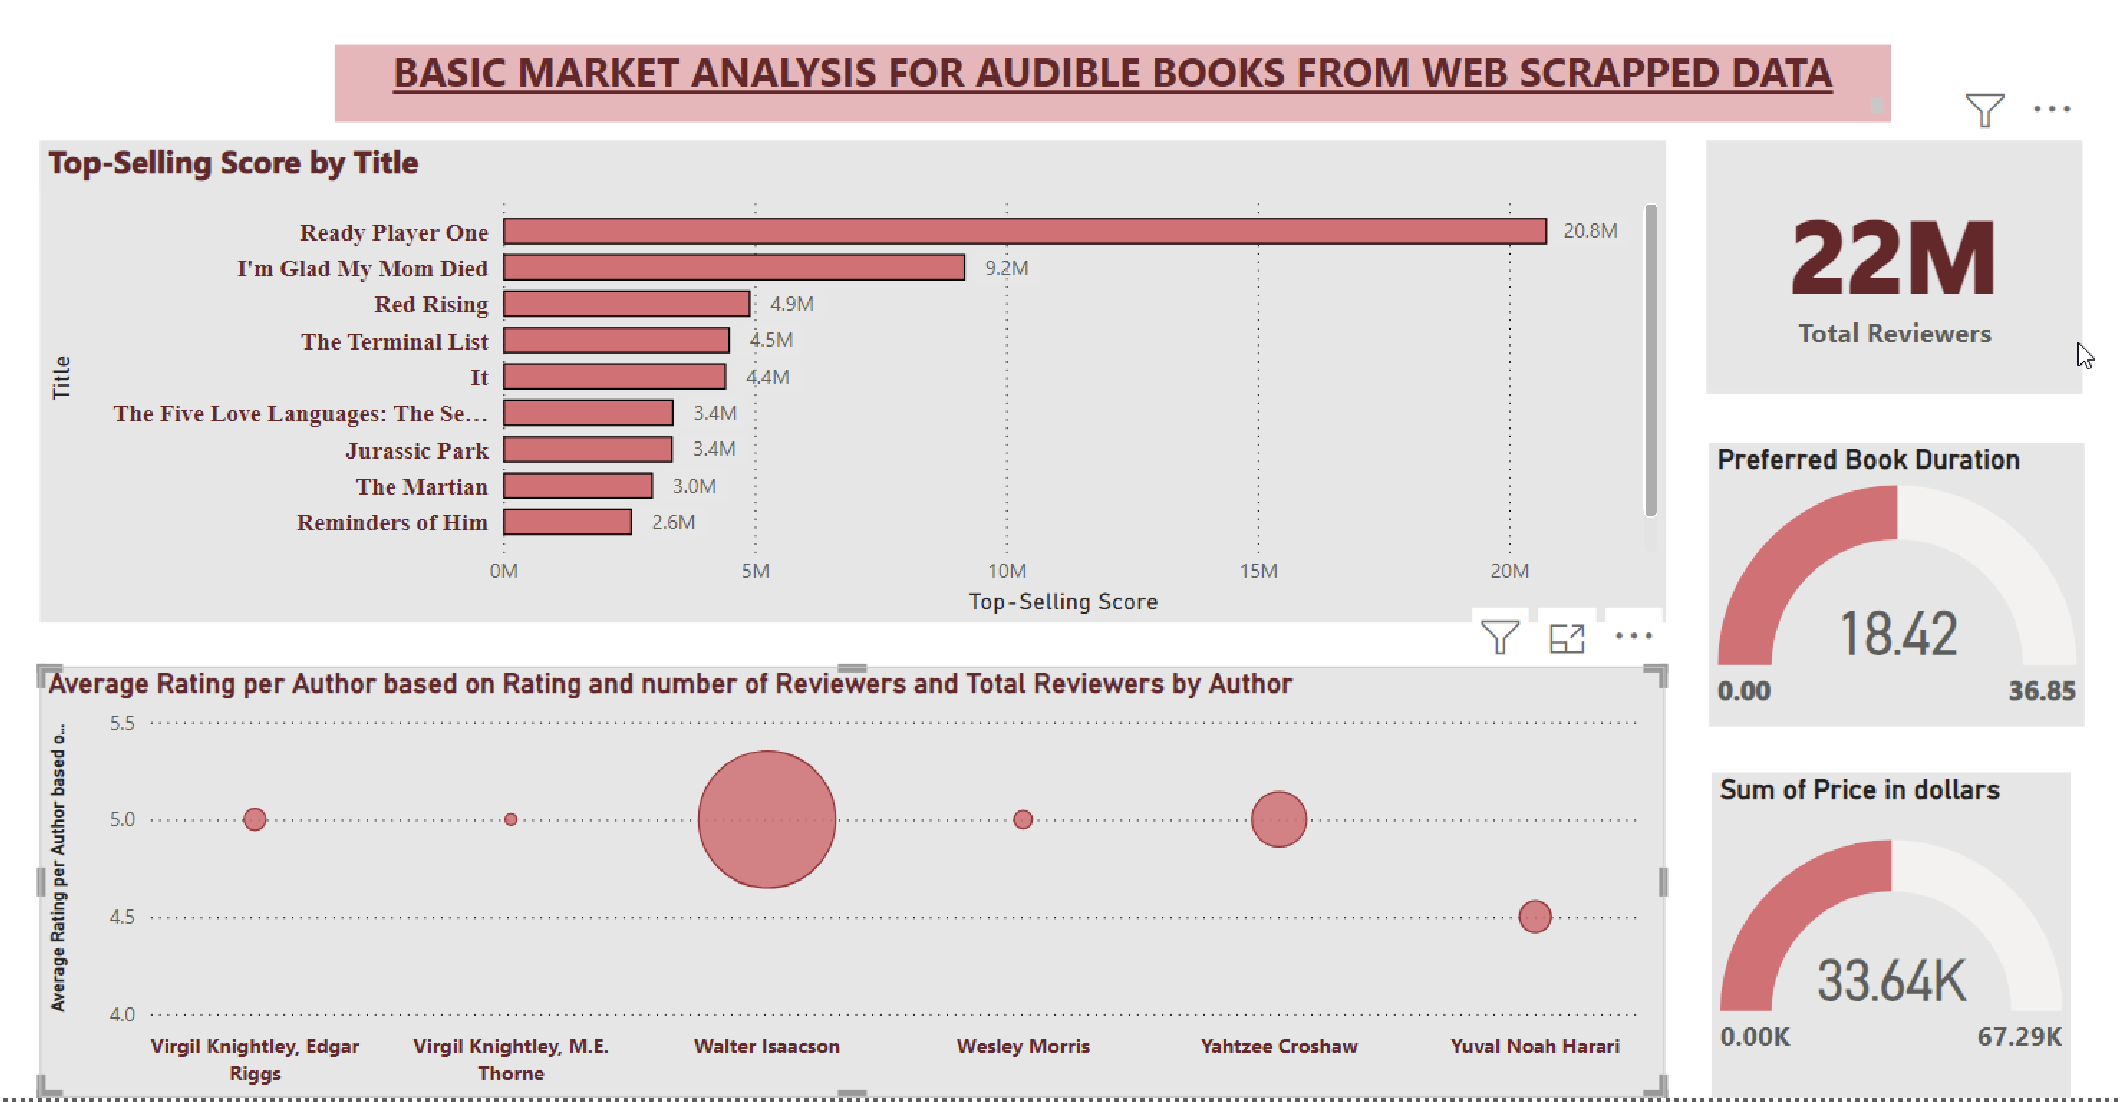

What the dashboard file says about the page in this screenshot:
{"tool":"powerbi","page":{"name":"Page 1","canvas":[1280,720],"ordinal":0},"visuals":[{"type":"clusteredBarChart","fields":{"Category":["MarketPulse.Title"],"Y":["MarketPulse.Top-Selling Score"]},"box":[23.5,142.8,980.8,290.5],"z":0},{"type":"card","fields":{"Values":["MarketPulse.Total Reviewers"]},"box":[1029.5,142.8,226.7,152.8],"z":1001},{"type":"gauge","fields":{"Y":["MarketPulse.Preferred Book Duration"]},"box":[1031.2,324.1,226.7,171.3],"z":1002},{"type":"gauge","fields":{"Y":["MarketPulse.Price in dollars"]},"box":[1032.9,524,216.6,196.5],"z":1003},{"type":"textbox","title":"BASIC MARKET ANALYSIS FOR AUDIBLE BOOKS FROM WEB SCRAPPED DATA","box":[202.3,84.7,939,46.7],"z":1004},{"type":"scatterChart","fields":{"Y":["MarketPulse.Average Rating per Author based on Rating and number of Reviewers"],"X":["MarketPulse.Author"],"Size":["MarketPulse.Total Reviewers"]},"box":[23.9,459.8,980.4,260.3],"z":1005}]}

Visuals, with their boxes on the page's 1280x720 design canvas (x1, y1, x2, y2). These are canvas units, not pixel positions in the 2122x1102 screenshot, which may show the page scaled, cropped or inside an application window:
clusteredBarChart - MarketPulse.Title x MarketPulse.Top-Selling Score: <region>24, 143, 1004, 433</region>
card - MarketPulse.Total Reviewers: <region>1030, 143, 1256, 296</region>
gauge - MarketPulse.Preferred Book Duration: <region>1031, 324, 1258, 495</region>
gauge - MarketPulse.Price in dollars: <region>1033, 524, 1250, 720</region>
"BASIC MARKET ANALYSIS FOR AUDIBLE BOOKS FROM WEB SCRAPPED DATA" textbox: <region>202, 85, 1141, 131</region>
scatterChart - MarketPulse.Average Rating per Author based on Rating and number of Reviewers x MarketPulse.Author: <region>24, 460, 1004, 720</region>
